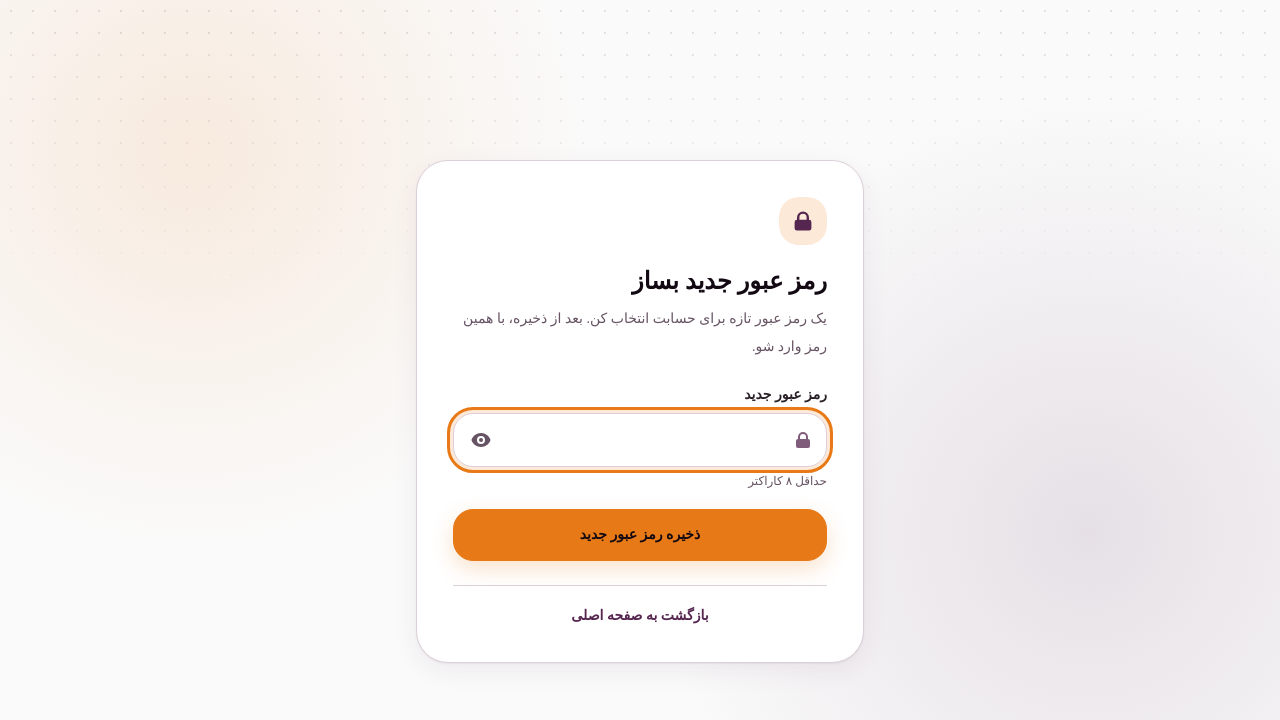
Test: ResetPasswordPage › keeps the form and shows the reason when the server cannot be reached
The width and height of the screenshot is (1280, 720).
Type "new-secret-password" into the password field labelled "رمز عبور جدید". click: [640, 440]
box: [453,413,827,467]
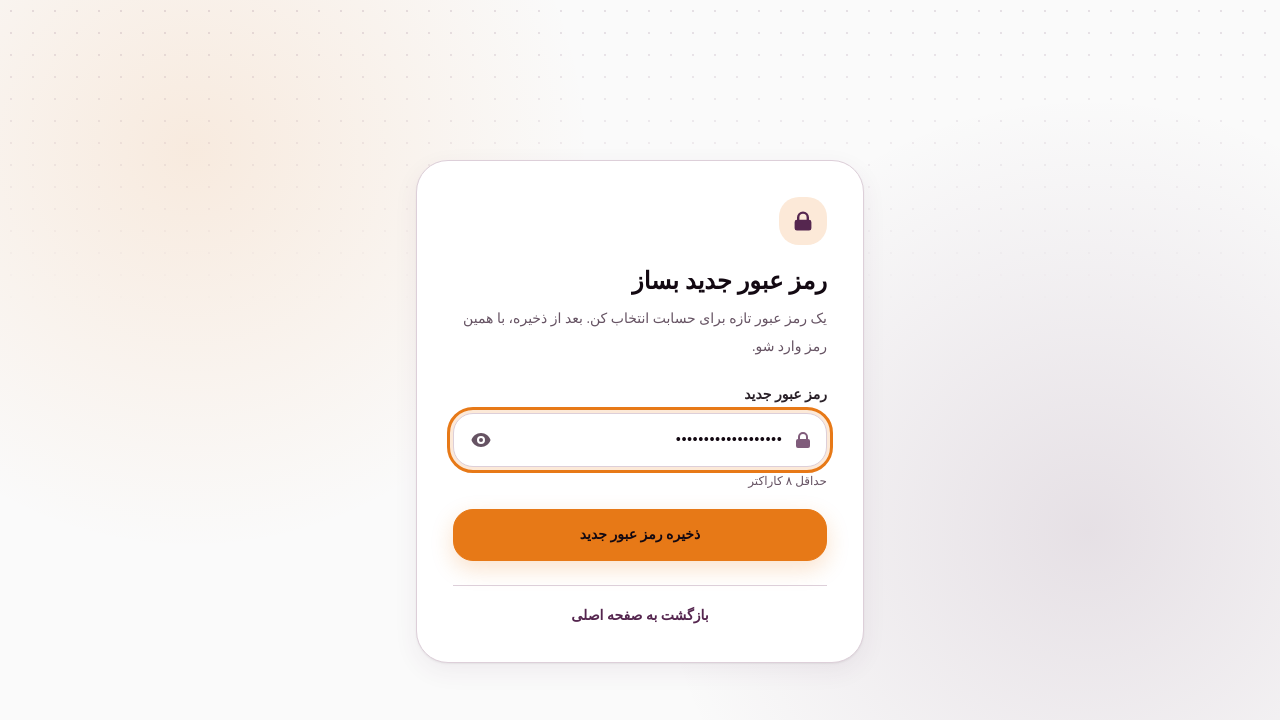
Click the button "ذخیره رمز عبور جدید". click: [640, 535]
box: [453,509,827,561]
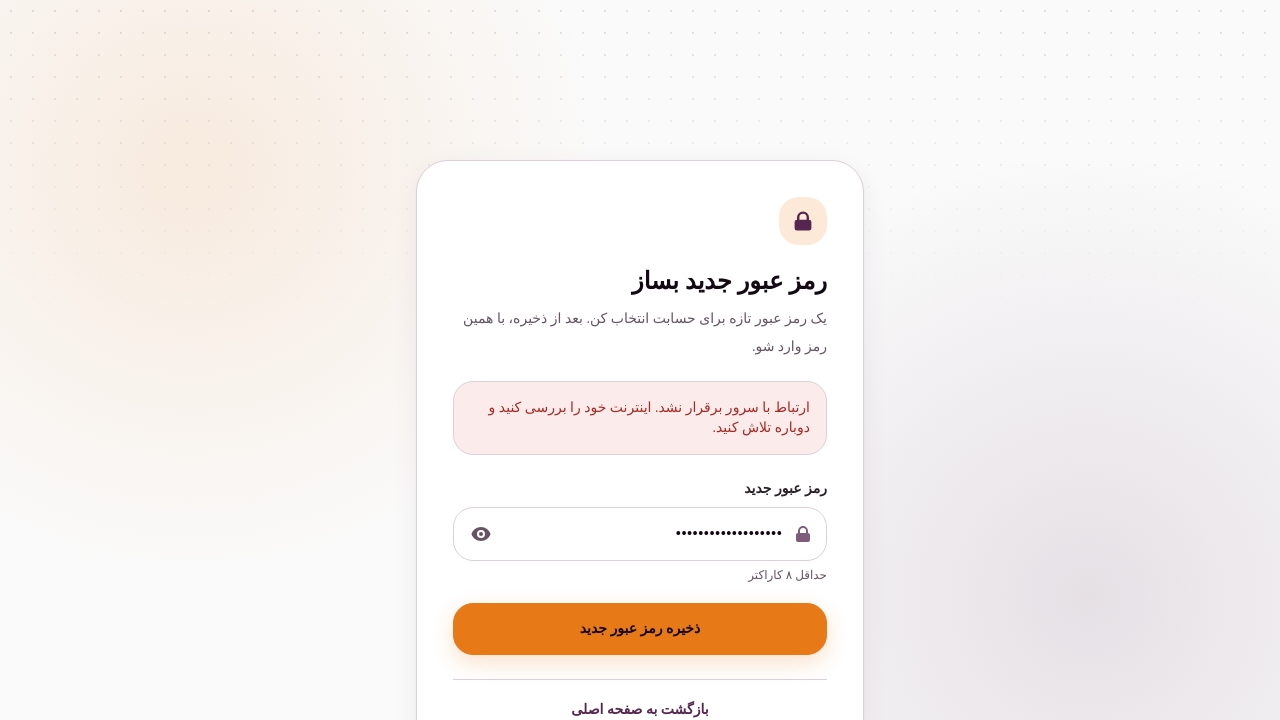
Expected: the message shows "ارتباط با سرور برقرار نشد", [489,400,810,435]
